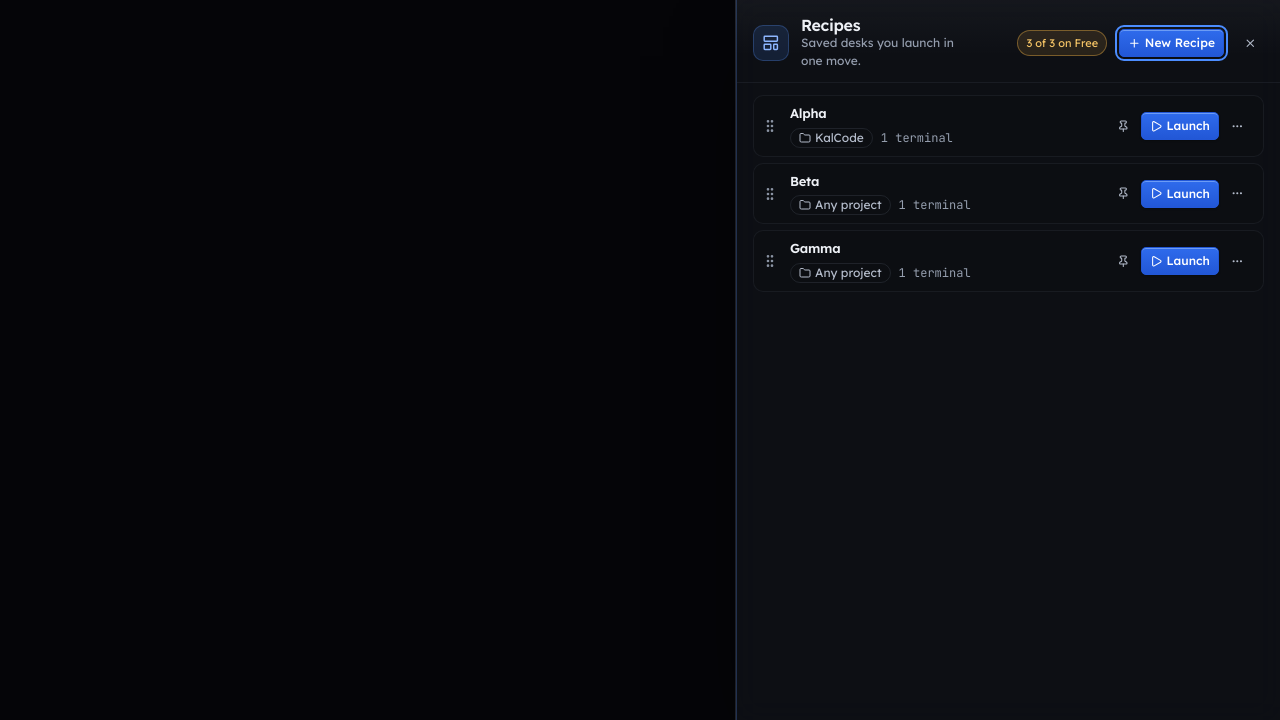
Test case: RecipesLibrary › cancels a rename with Escape
Double-click the text "Alpha" at (808, 113), box [790,105,826,121]
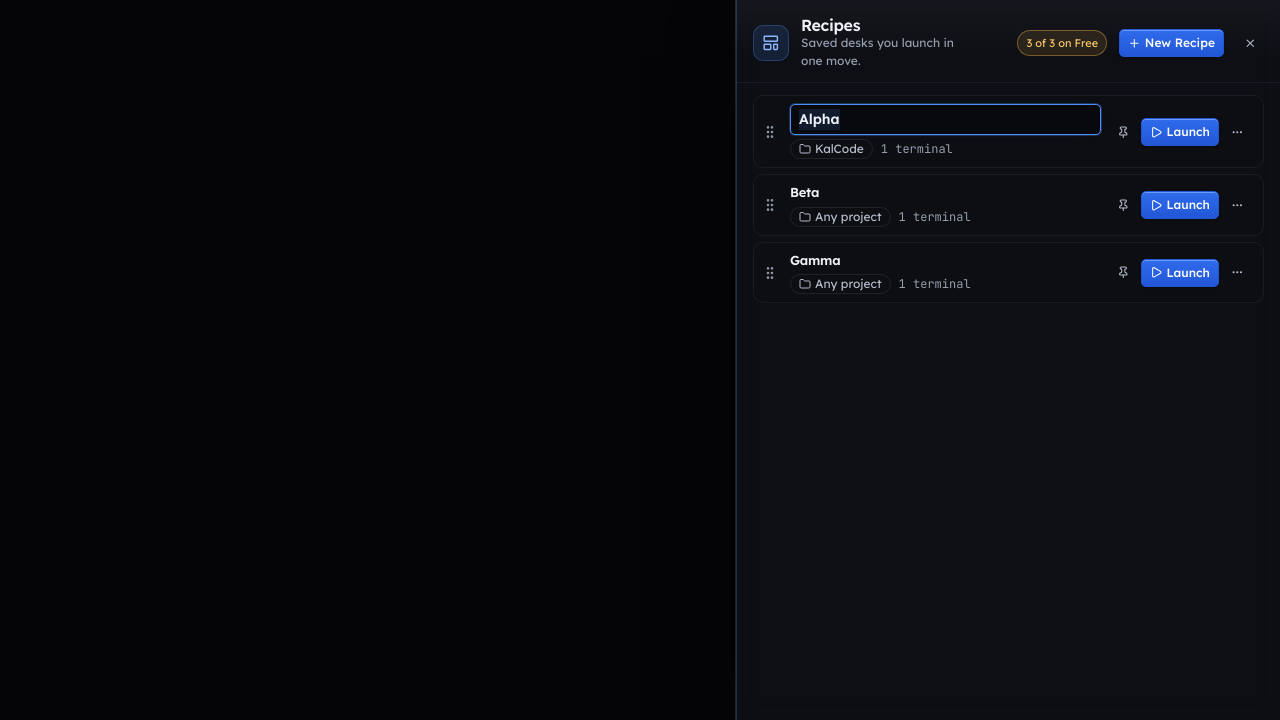
Type "x" into the field named "Recipe name" at (946, 120), box [790,104,1101,135]
Then press Escape
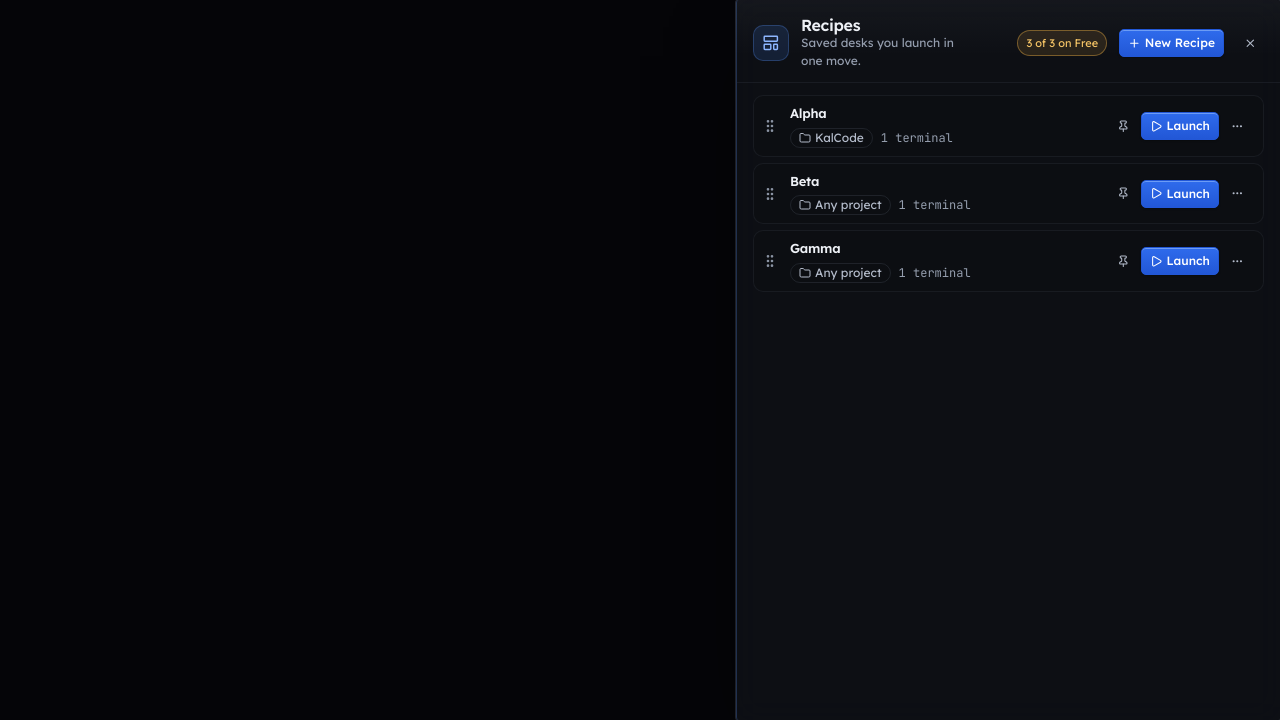
Expected: the text "Alpha" is shown, [790,105,826,121]
